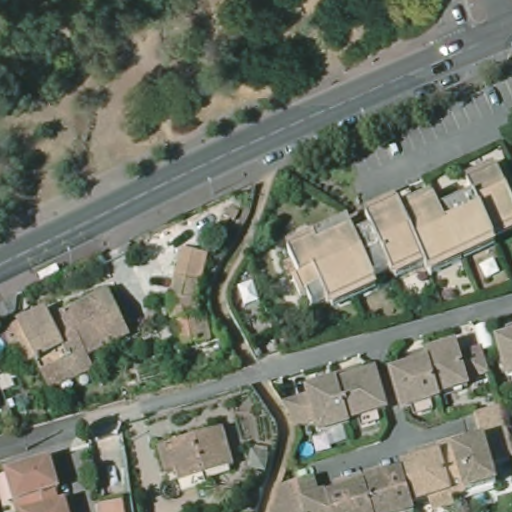pool: (299, 443, 315, 459)
